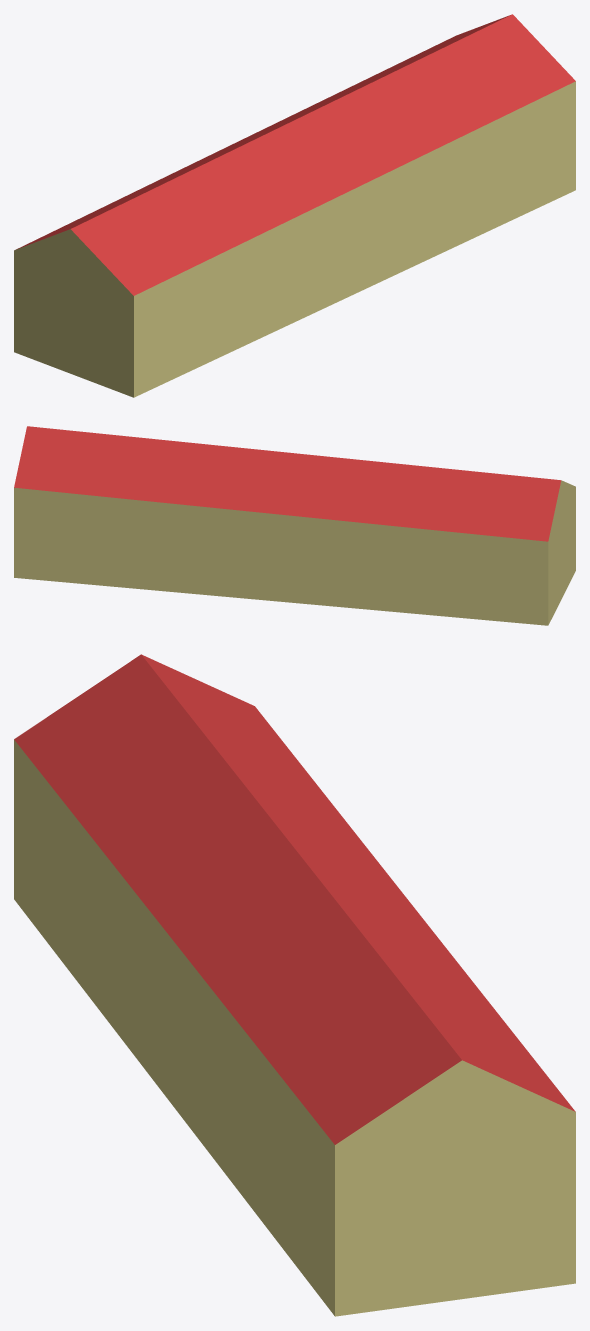
3 views of the same model, one above another, from view 1: azimuth 30°, elevation 25°; view 2: azimuth 150°, elevation 25°; view 3: azimuth 270°, elevation 25° (orthographic). The views are drawn at different scales.
Bounding box in the file's own units: 31.32 × 16.51 × 7.74.
